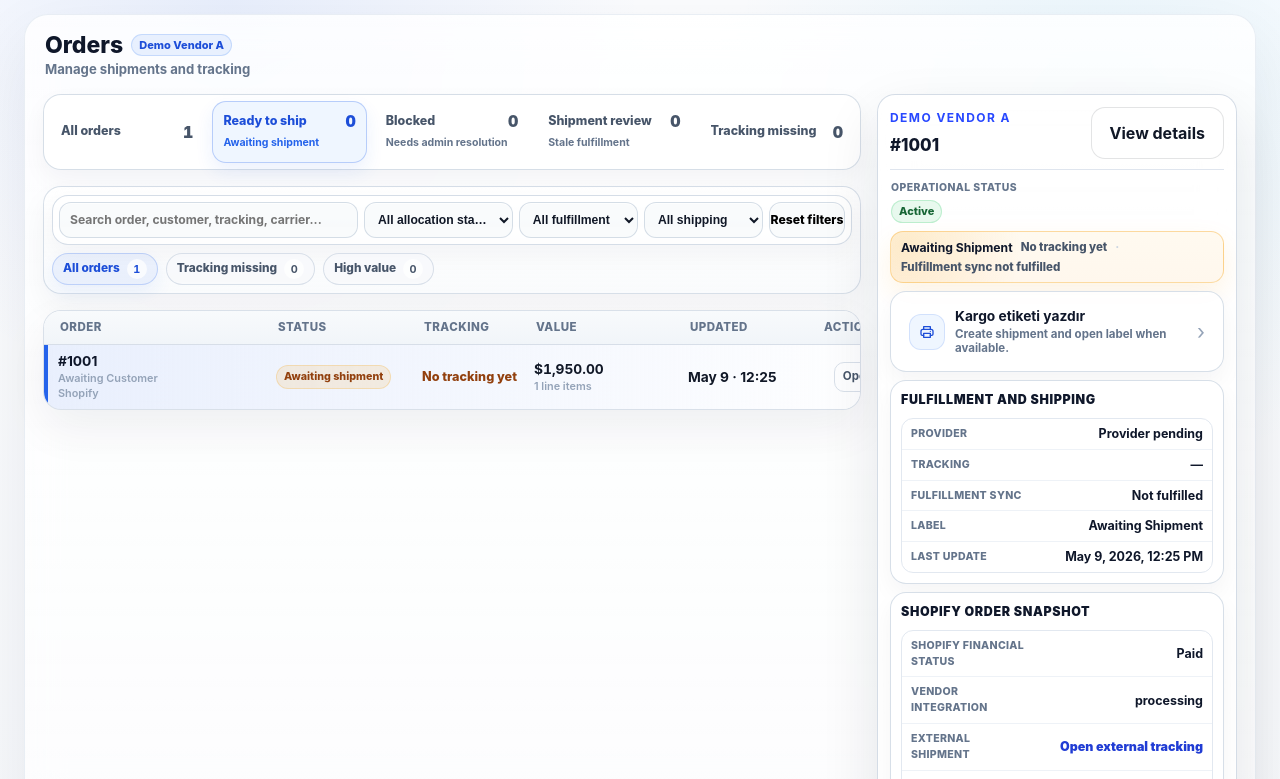
Scenario: OrdersPage control center › uses workflow query params to open the matching orders queue and allows reset
Expected: the element named "Orders workflow tabs" shows "Ready to ship", [212,101,367,163]
Expected: the text "#1001" is shown, [58,353,97,369]
Click the button "Reset filters": (807, 220) [769,202,845,238]
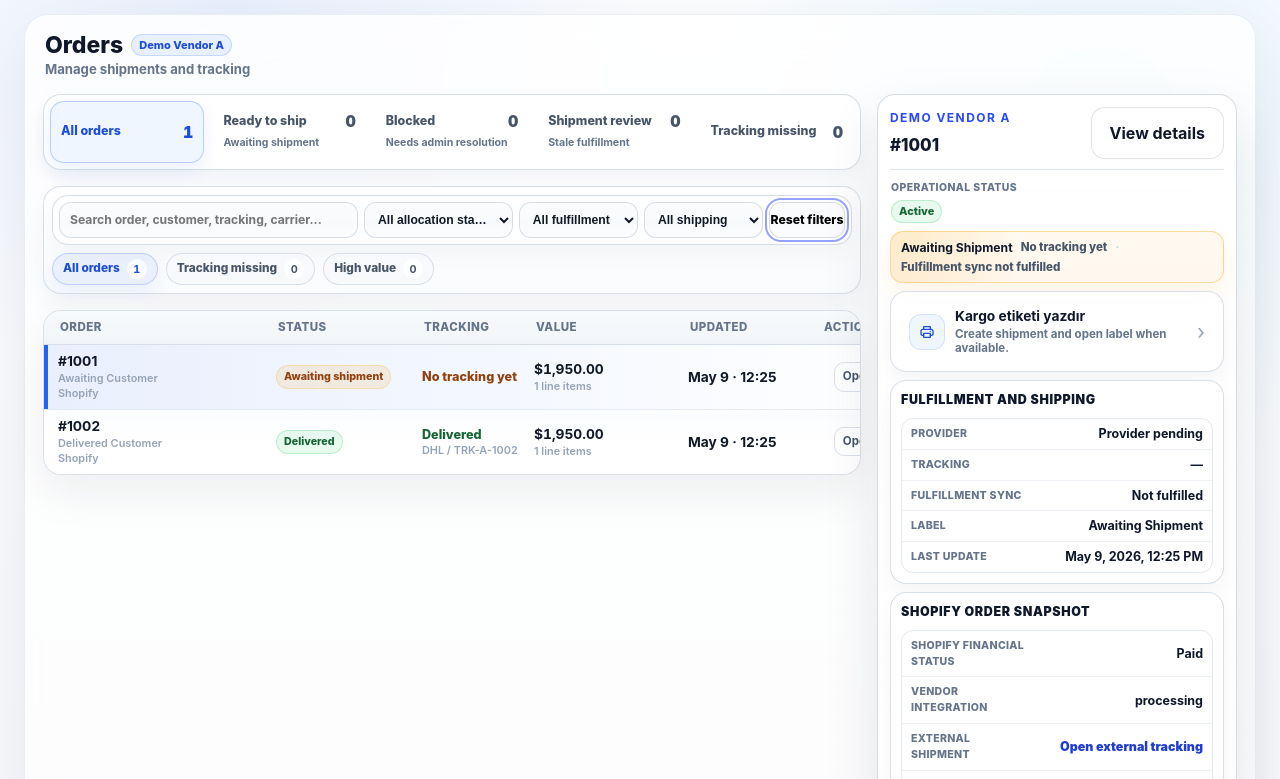
Now the text "#1002" is shown, box [58,418,100,434]
